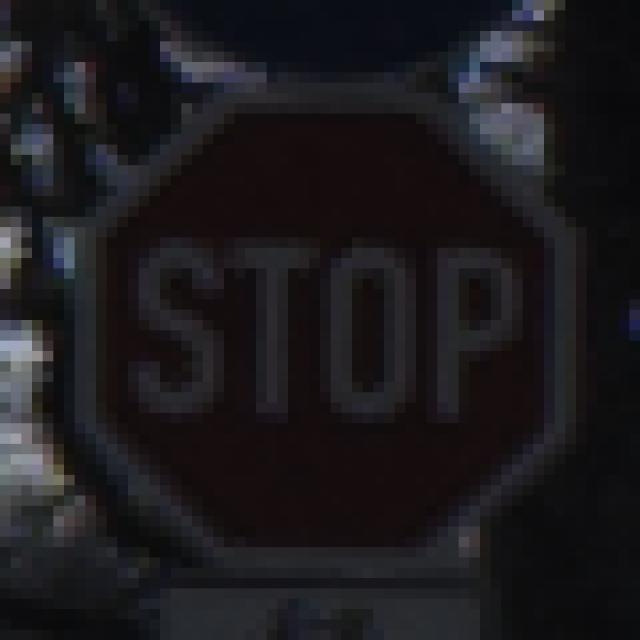STOP: (65, 63, 588, 589)
